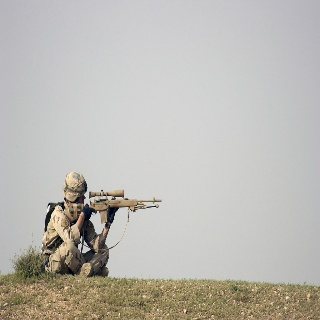rifle: (68, 189, 166, 225)
